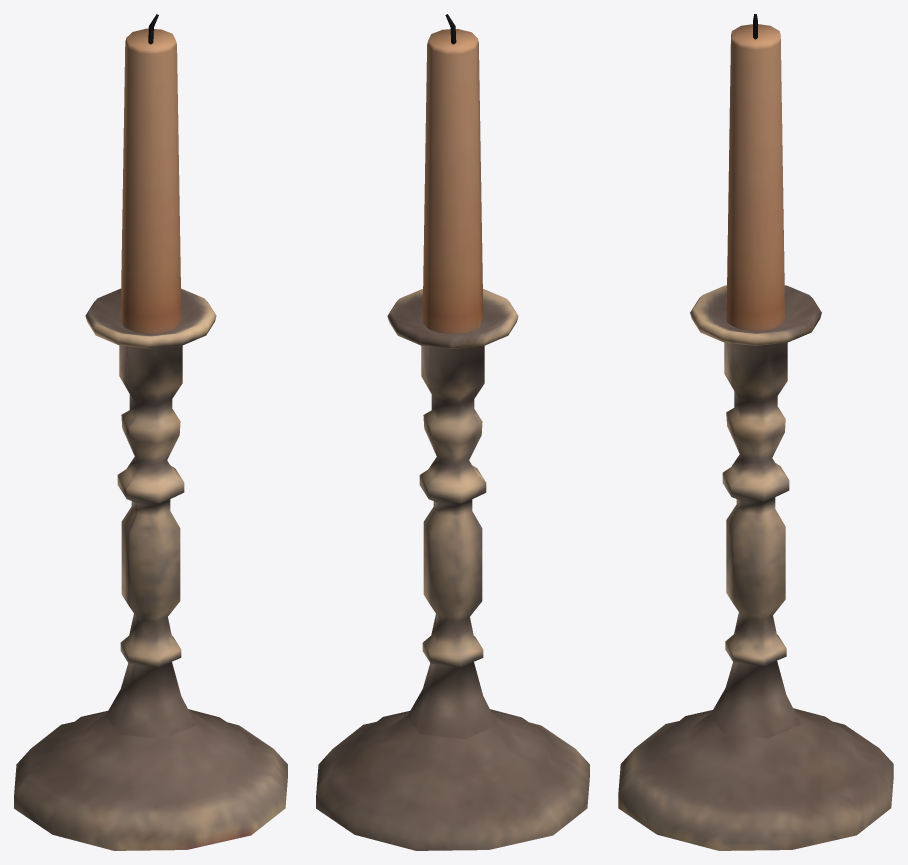
Rendered from LP_CandleHolder_Single.FBX.
3 views of the same model, side by side, from view 1: azimuth 30°, elevation 25°; view 2: azimuth 150°, elevation 25°; view 3: azimuth 270°, elevation 25° (orthographic).
Parts seen in each view (by area): view 1: LP_CandleHolder_Single; view 2: LP_CandleHolder_Single; view 3: LP_CandleHolder_Single.
Boxes of the visible parts, <box> form: LP_CandleHolder_Single: <box>14,14,287,850</box>; LP_CandleHolder_Single: <box>316,14,589,850</box>; LP_CandleHolder_Single: <box>618,14,893,850</box>.
Size of the model in its own units: 13.35 by 41.83 by 13.35.
